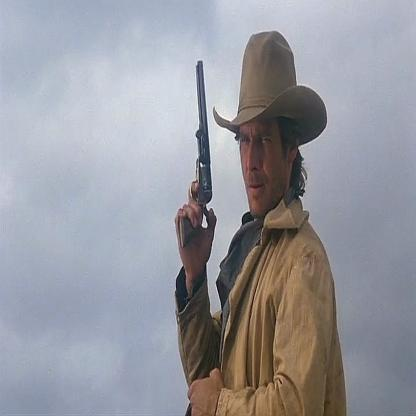gun: (184, 39, 219, 264)
